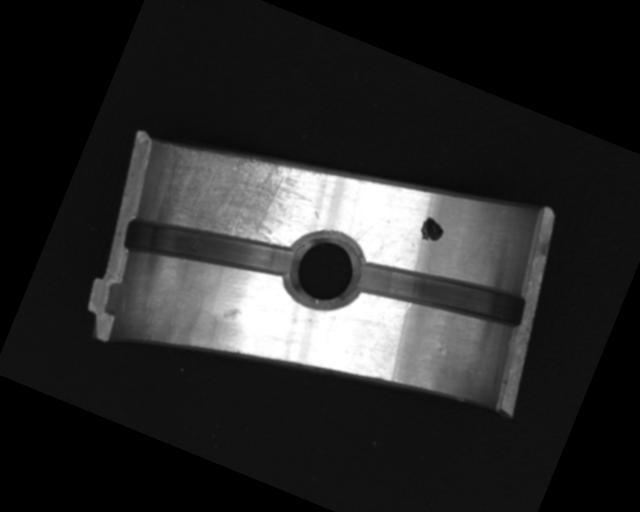blot: (417, 214, 447, 246)
bruise: (220, 303, 243, 325)
gap: (117, 187, 305, 313), (353, 236, 531, 352)
hole: (280, 224, 370, 318)
nick: (369, 294, 413, 360), (353, 211, 381, 248)
scratch: (133, 106, 327, 272)
